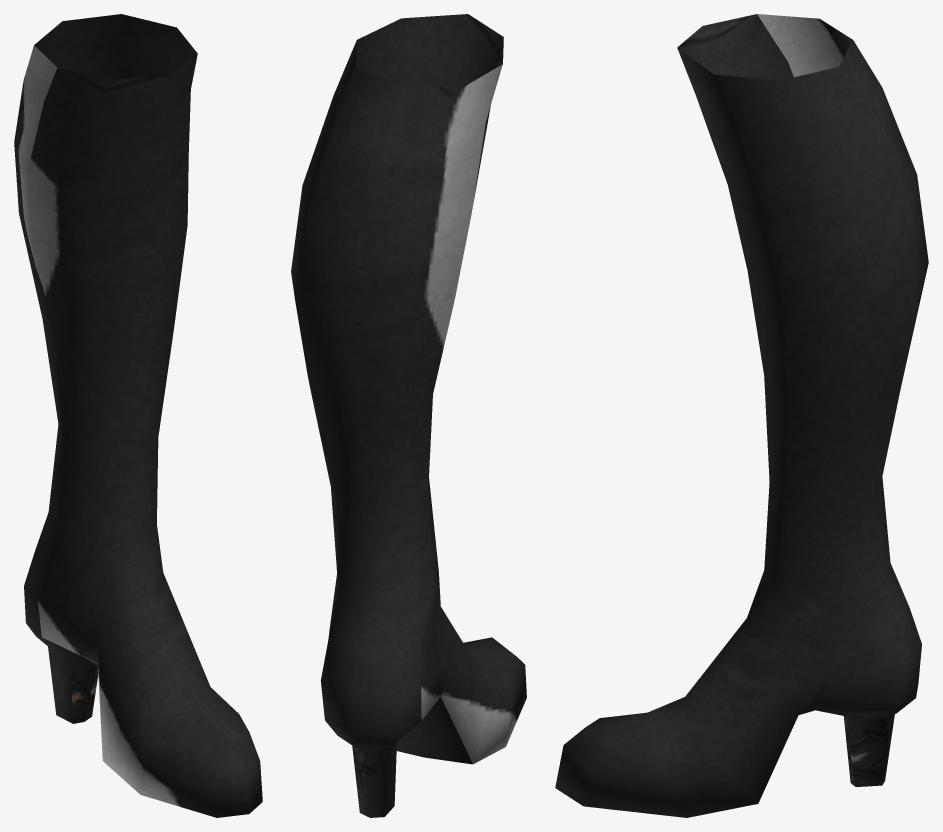
Rendered from Rfoot2.obj.
3 views of the same model, side by side, from view 1: azimuth 30°, elevation 25°; view 2: azimuth 150°, elevation 25°; view 3: azimuth 270°, elevation 25° (orthographic). The views are drawn at different scales.
Visible parts, largest first — view 1: polySurface50 polySurface47 polySurface44 polySurface5 Nier2b:Cu; view 2: polySurface50 polySurface47 polySurface44 polySurface5 Nier2b:Cu; view 3: polySurface50 polySurface47 polySurface44 polySurface5 Nier2b:Cu.
Part boxes in pixels (box(x1,y1,x2,y2)): polySurface50 polySurface47 polySurface44 polySurface5 Nier2b:Cu: box(14, 14, 262, 817); polySurface50 polySurface47 polySurface44 polySurface5 Nier2b:Cu: box(291, 14, 526, 817); polySurface50 polySurface47 polySurface44 polySurface5 Nier2b:Cu: box(555, 14, 928, 817).
Bounding box in the file's own units: 2.57 × 11.12 × 5.11.
1 material, 1 textured.
